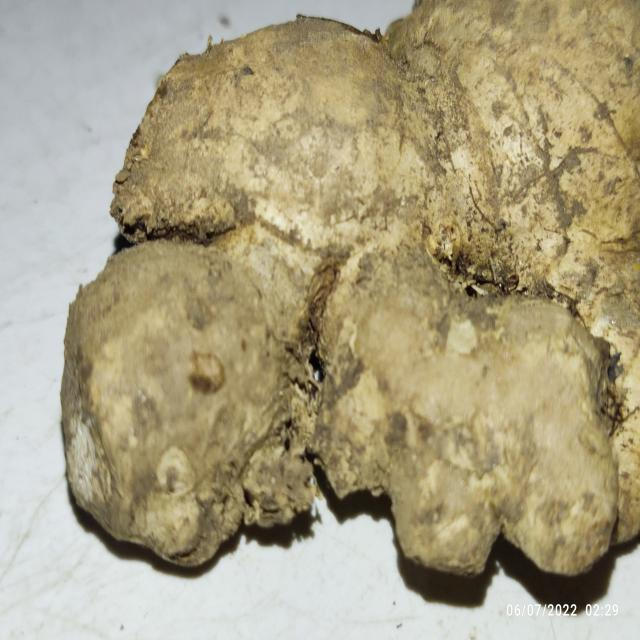ginger: (63, 8, 640, 576)
